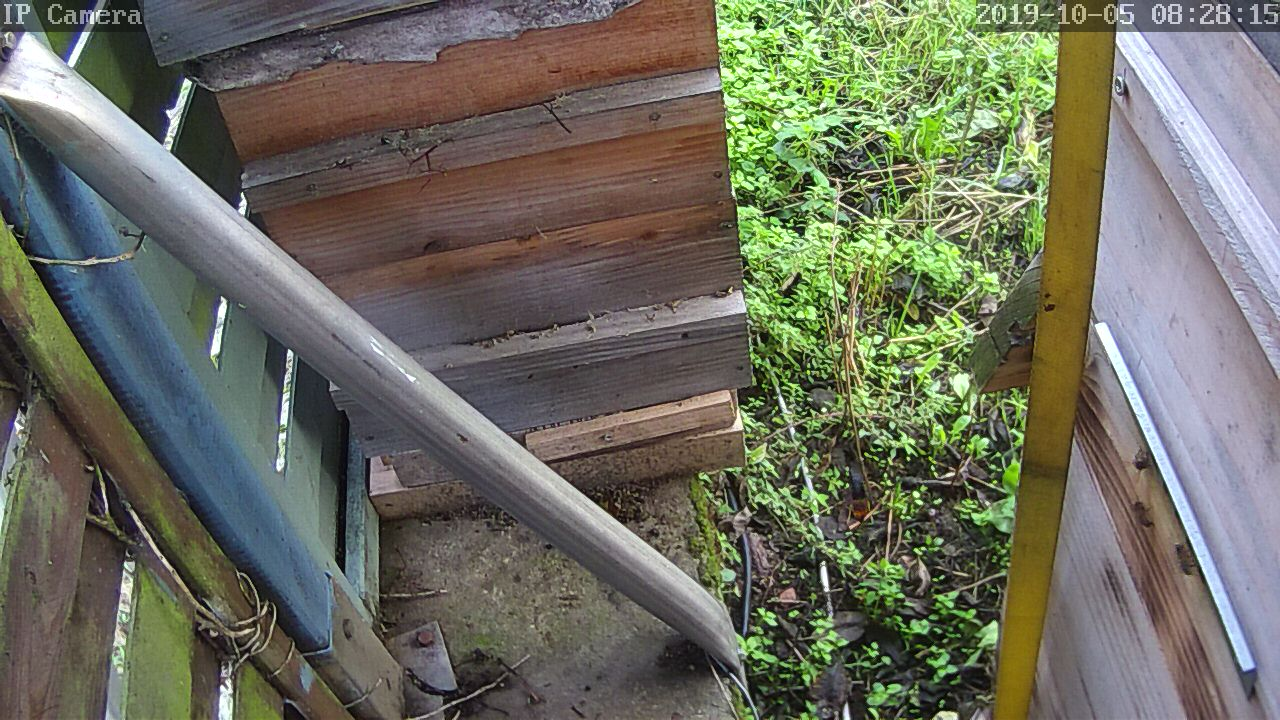bee: (1122, 494, 1157, 533)
hornet: (840, 459, 878, 529)
